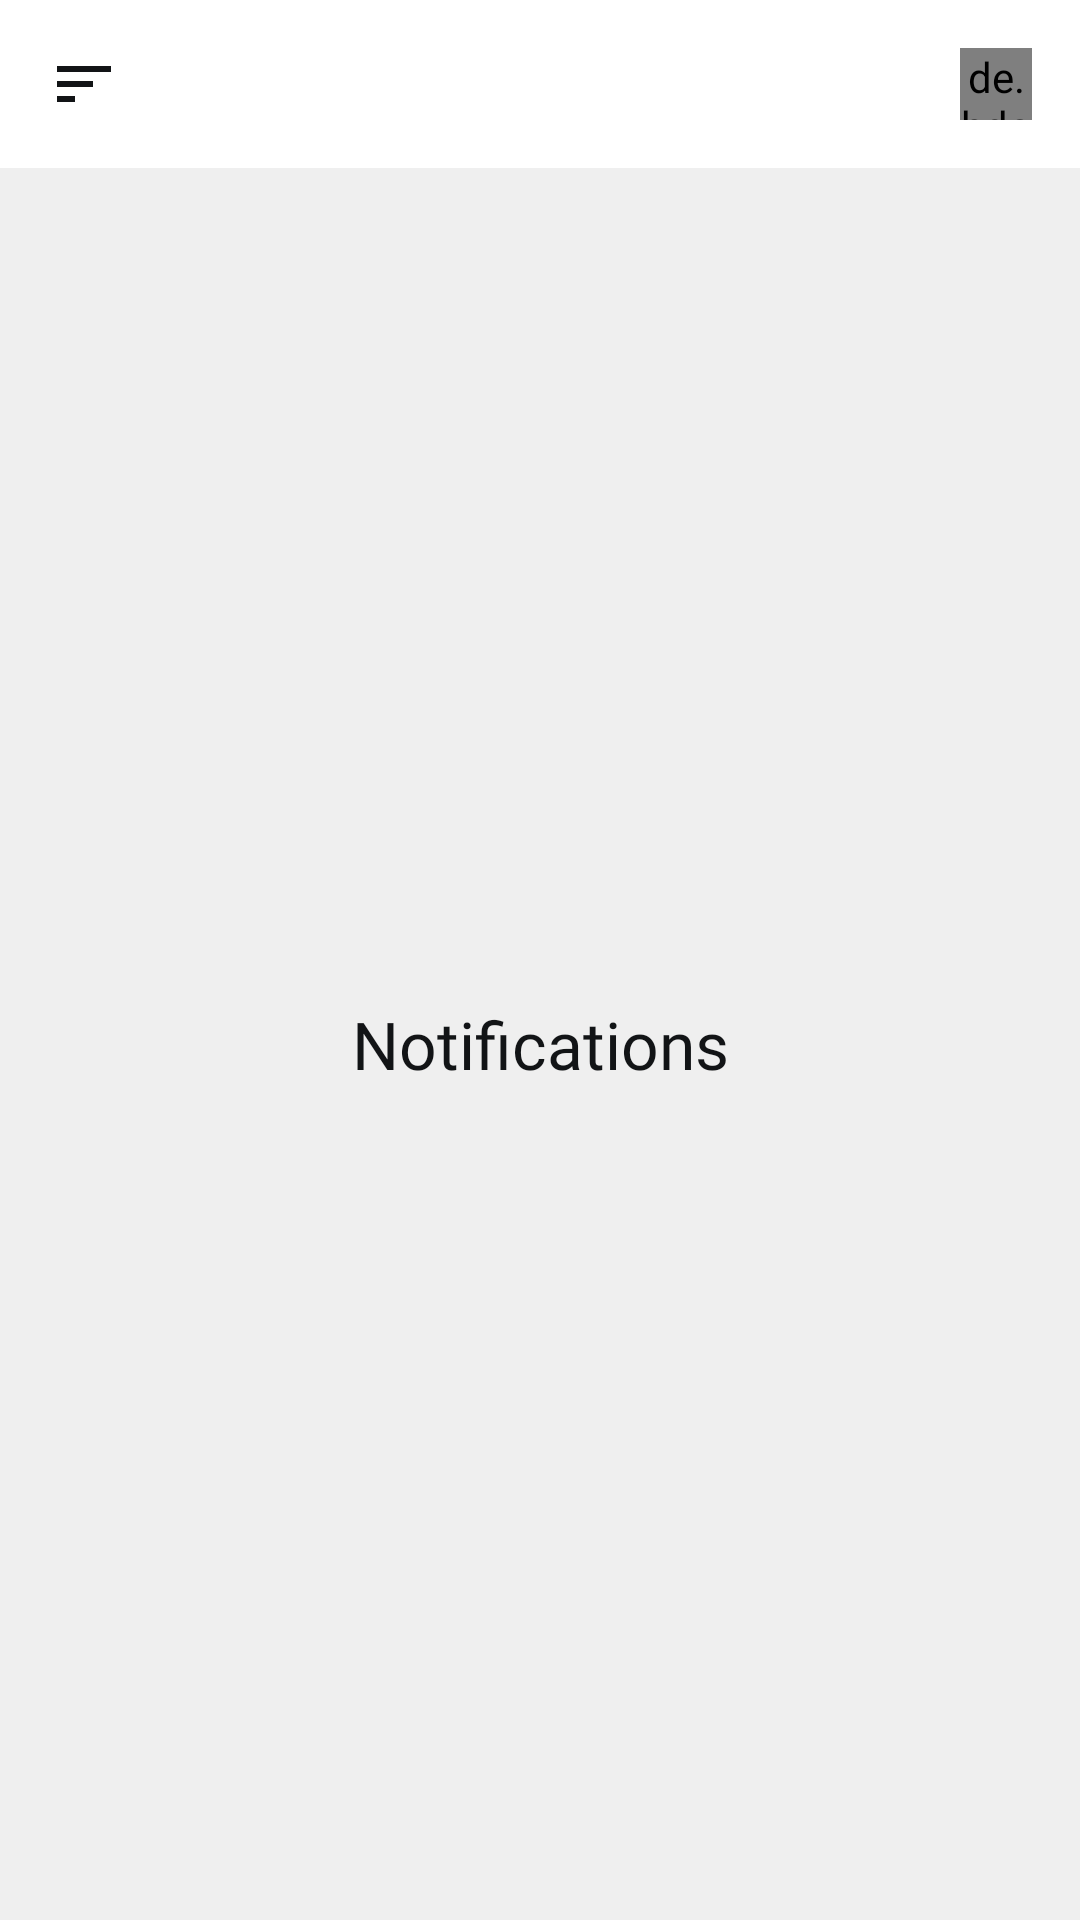

Screen size 1080x1920. Icon name, then its center in pixels as (x,y):
filter: (84,84)
